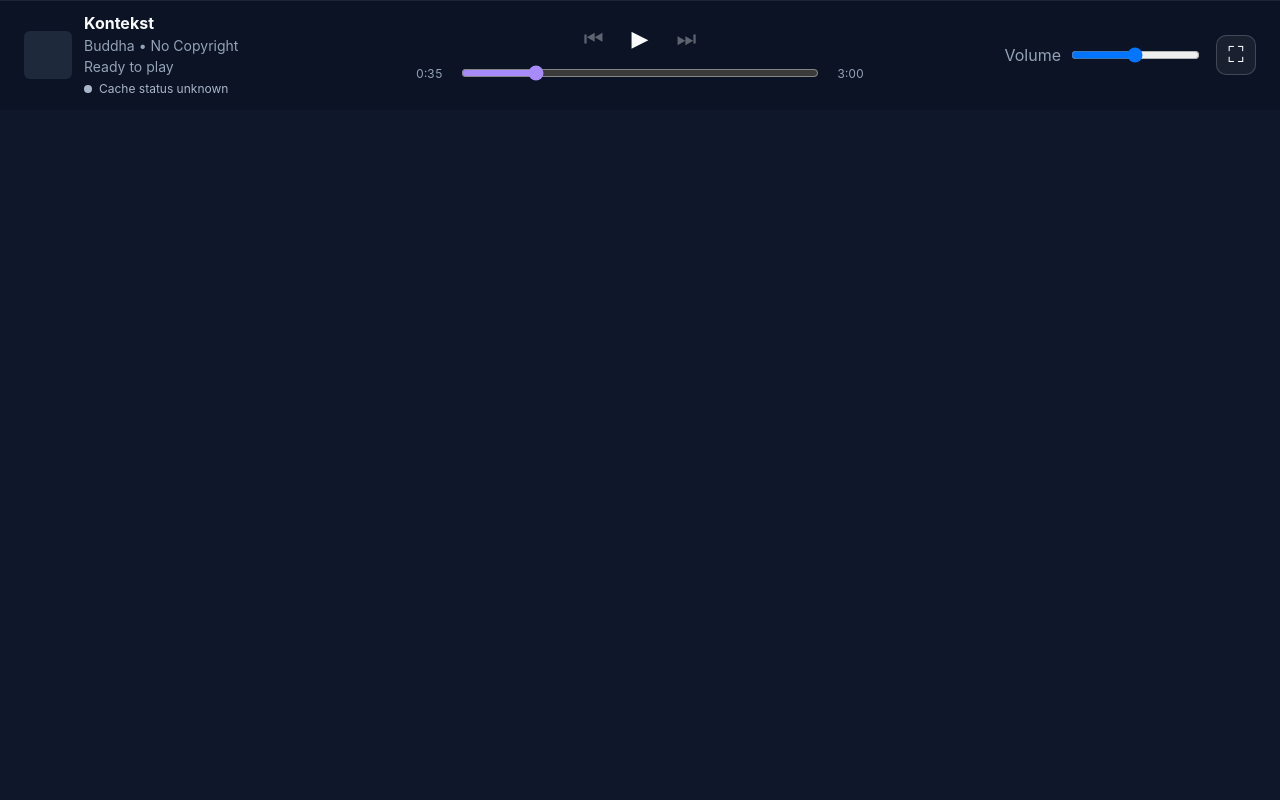
Test: MC-T51: cache-status integration › renders confirmed provider result unknown as Cache status unknown
Expected: the text "Kontekst" is shown, [84, 13, 154, 33]
Expected: the text "Cache status unknown" is shown, [84, 81, 228, 98]
Click the button named "Expand player".
click(1236, 55)  # box [1216, 35, 1256, 75]
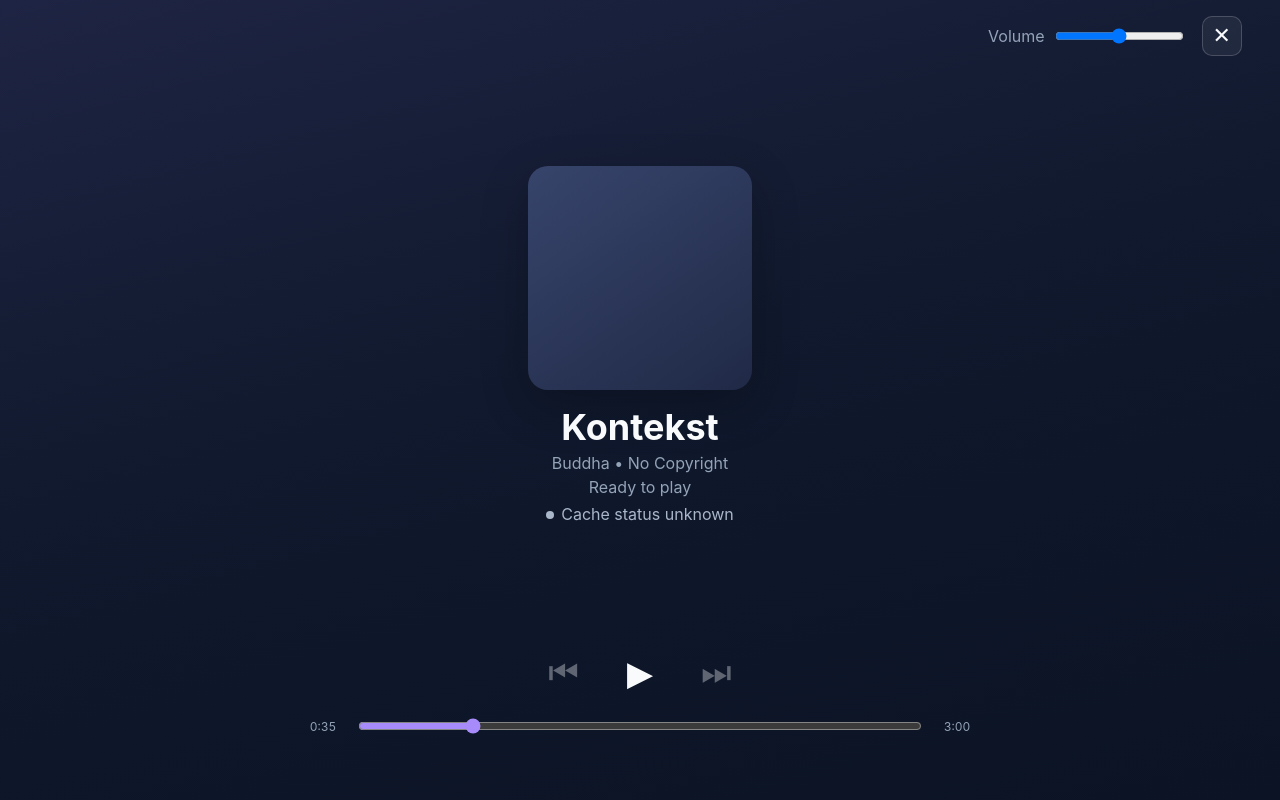
Expected: the text "Cache status unknown" is shown, [546, 503, 734, 526]
Expected: the dialog is shown
